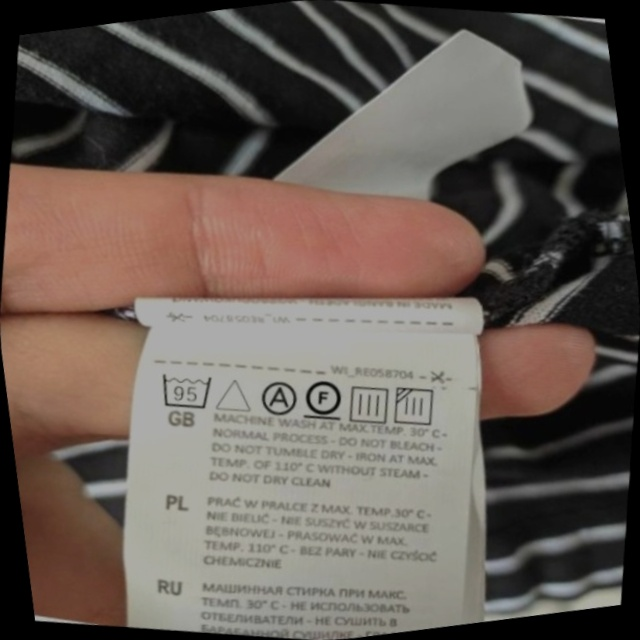95C: (152, 361, 222, 420)
bleach: (209, 367, 259, 421)
drip_dry: (340, 375, 399, 432)
drip_dry_in_shade: (386, 377, 447, 437)
dry_clean: (252, 373, 304, 423)
dry_clean_petrol_only: (297, 369, 352, 428)
